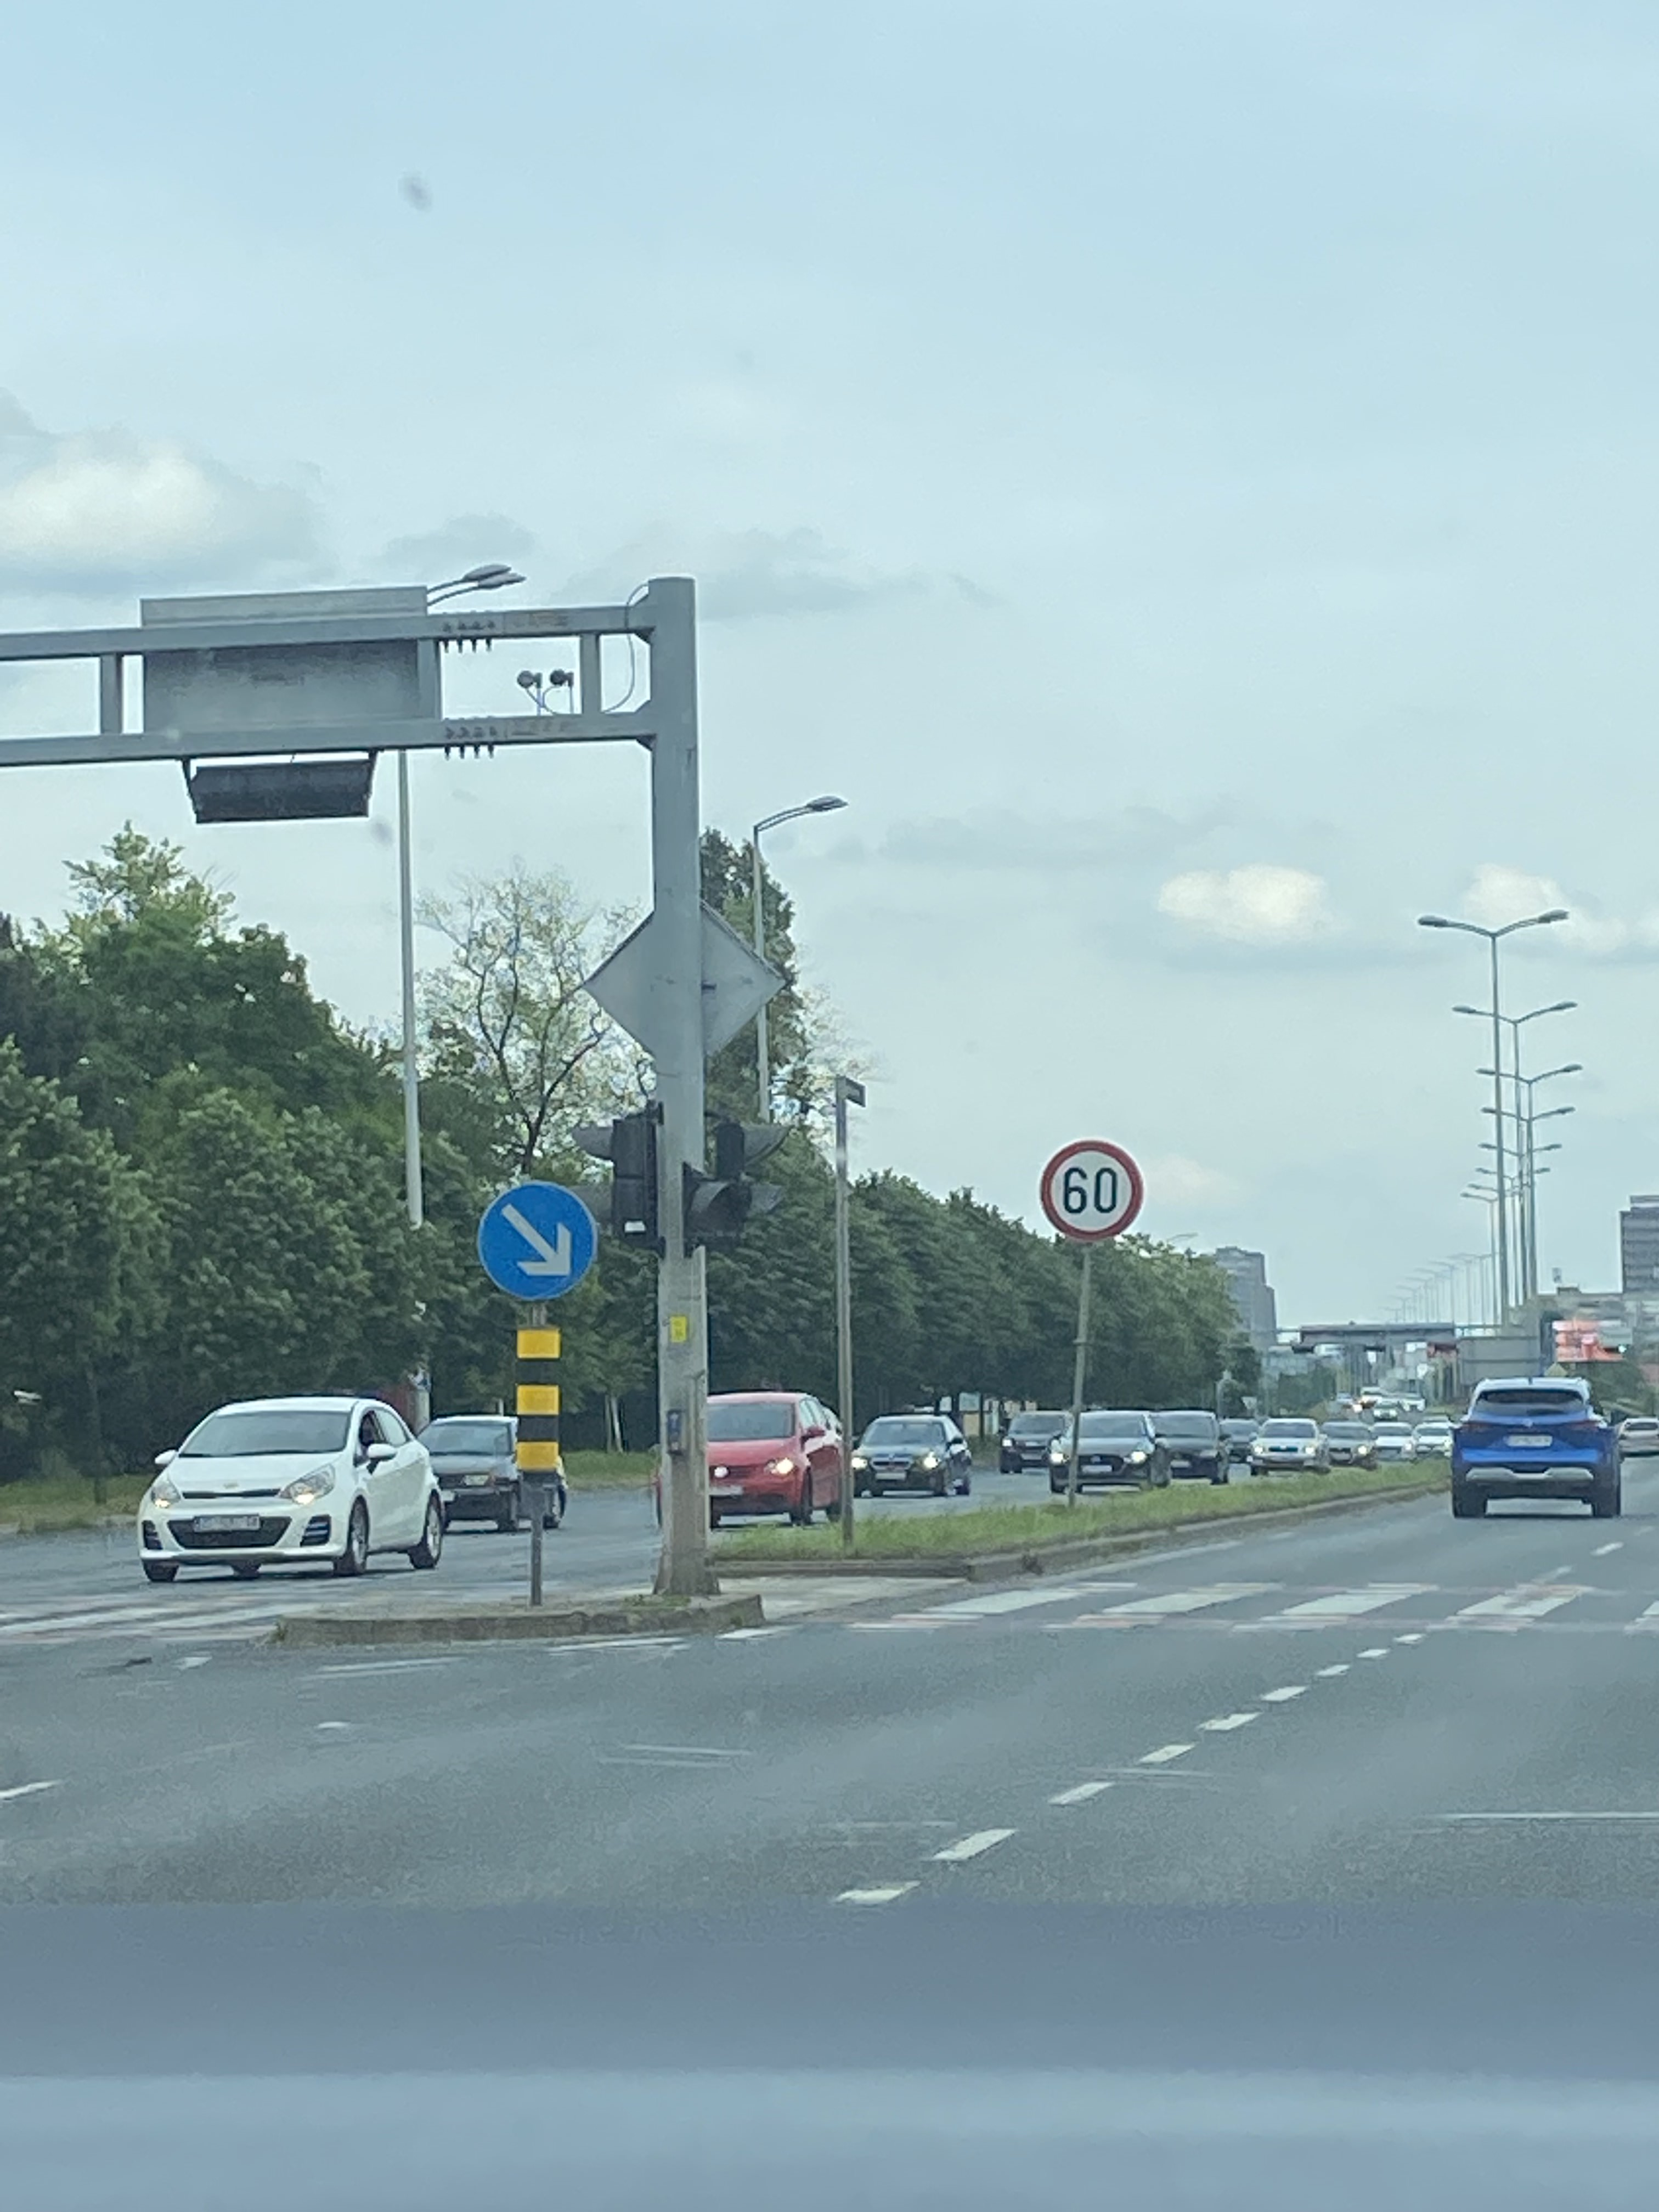Ograničenje brzine 60: (1039, 1139, 1145, 1240)
